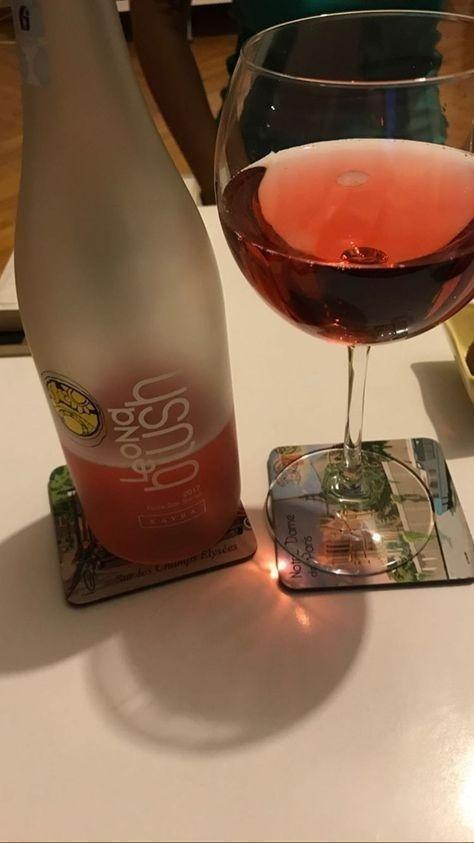bottle-glass: (1, 2, 246, 580)
glass-wine: (215, 4, 471, 589)
